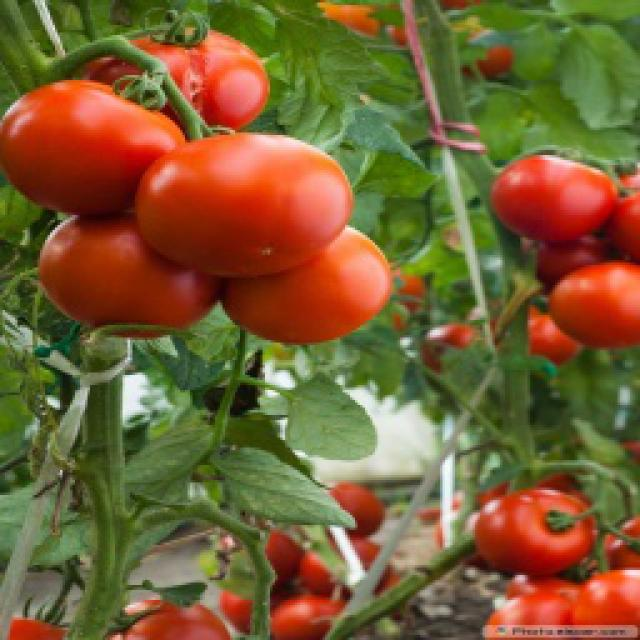tomato: (138, 135, 348, 280), (0, 80, 192, 217), (40, 30, 270, 140), (40, 210, 225, 332), (215, 225, 397, 347), (470, 475, 602, 577), (492, 152, 620, 250), (548, 262, 638, 350)
